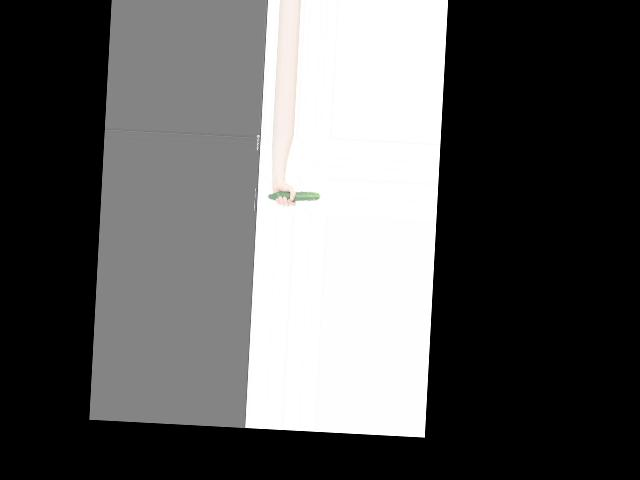cucumber: (266, 189, 320, 203)
